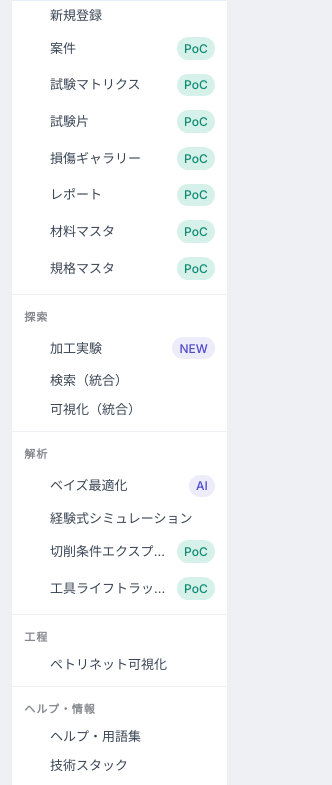
Test: Sidebar › hides search hub children until the parent is expanded
The width and height of the screenshot is (332, 785).
(page scrolled)
Check: the text "意味検索" is not shown
Check: the text "AI チャット" is not shown
Click the button "検索（統合）" at [120, 381], box [12, 366, 227, 395]
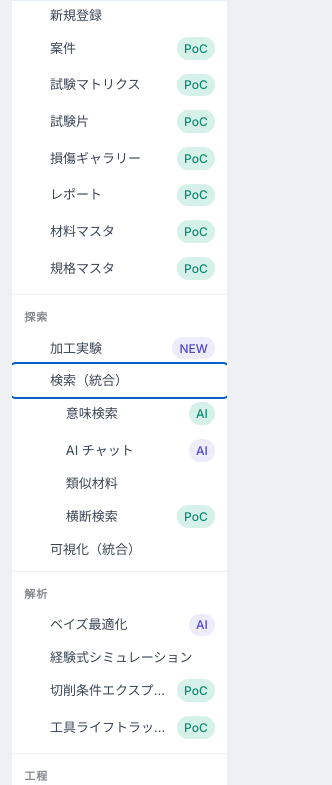
Check: the text "意味検索" is shown, box [66, 405, 118, 421]
Check: the text "AI チャット" is shown, box [66, 442, 134, 458]
